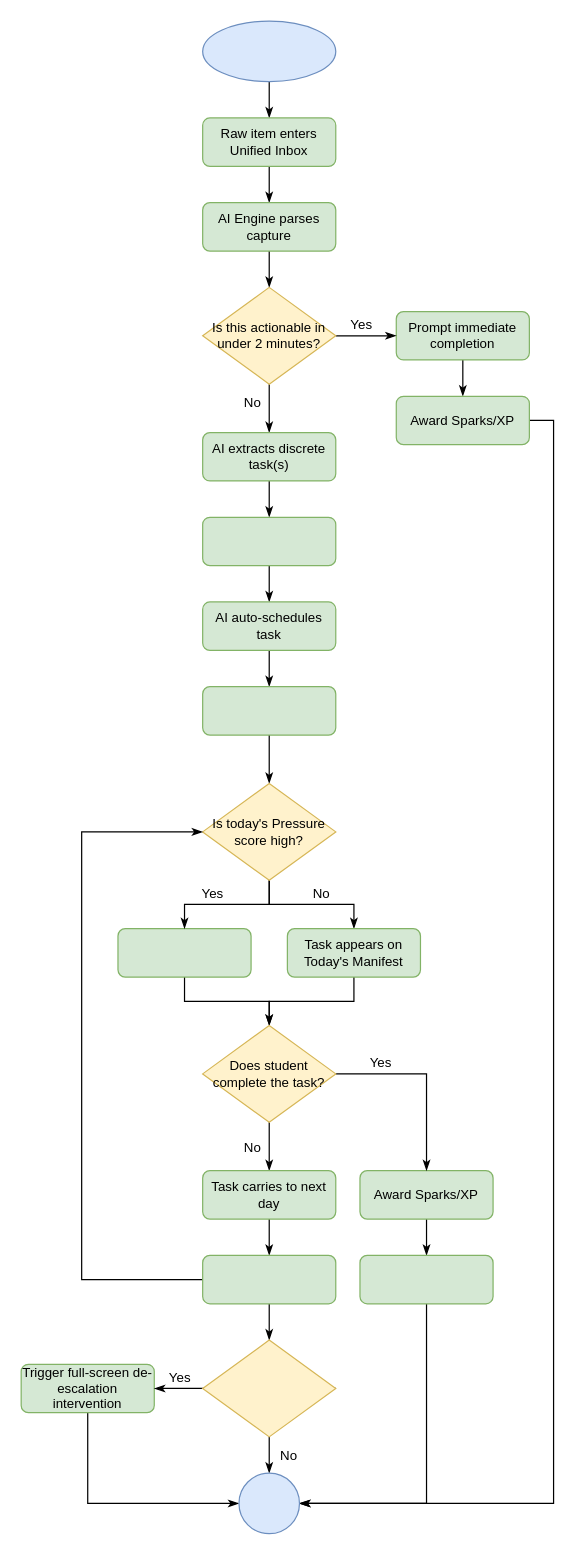
This 584x1555 diagram has some shape labels left out. Each missing label, with the box of its shape:
AI assigns Life Domain: (201, 516, 336, 566)
Has mascot reached Critical state?: (201, 1339, 336, 1437)
Mascot state recalculated from Pressure + Vitality: (201, 1254, 336, 1304)
Student captures thought: (201, 20, 336, 82)
Task added to backlog / future Manifest: (201, 685, 336, 735)
Today's Manifest shrinks — task deferred: (117, 927, 251, 977)
Update Vitality sub-stats: (359, 1254, 493, 1304)
